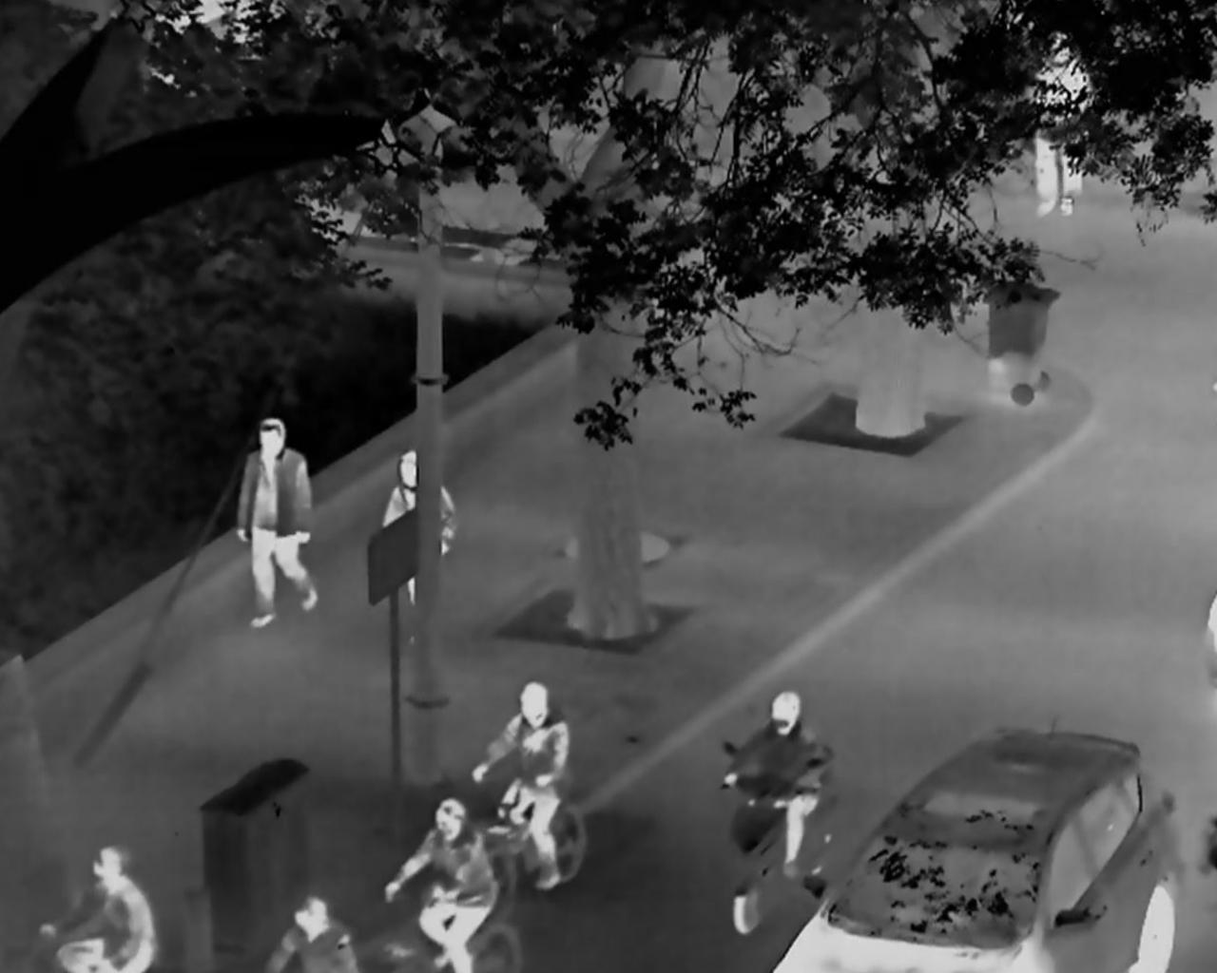person: (471, 679, 570, 891), (719, 691, 827, 879), (383, 797, 498, 973), (239, 417, 319, 628), (38, 841, 160, 973), (383, 448, 459, 640), (1031, 29, 1091, 216), (264, 894, 359, 973)
